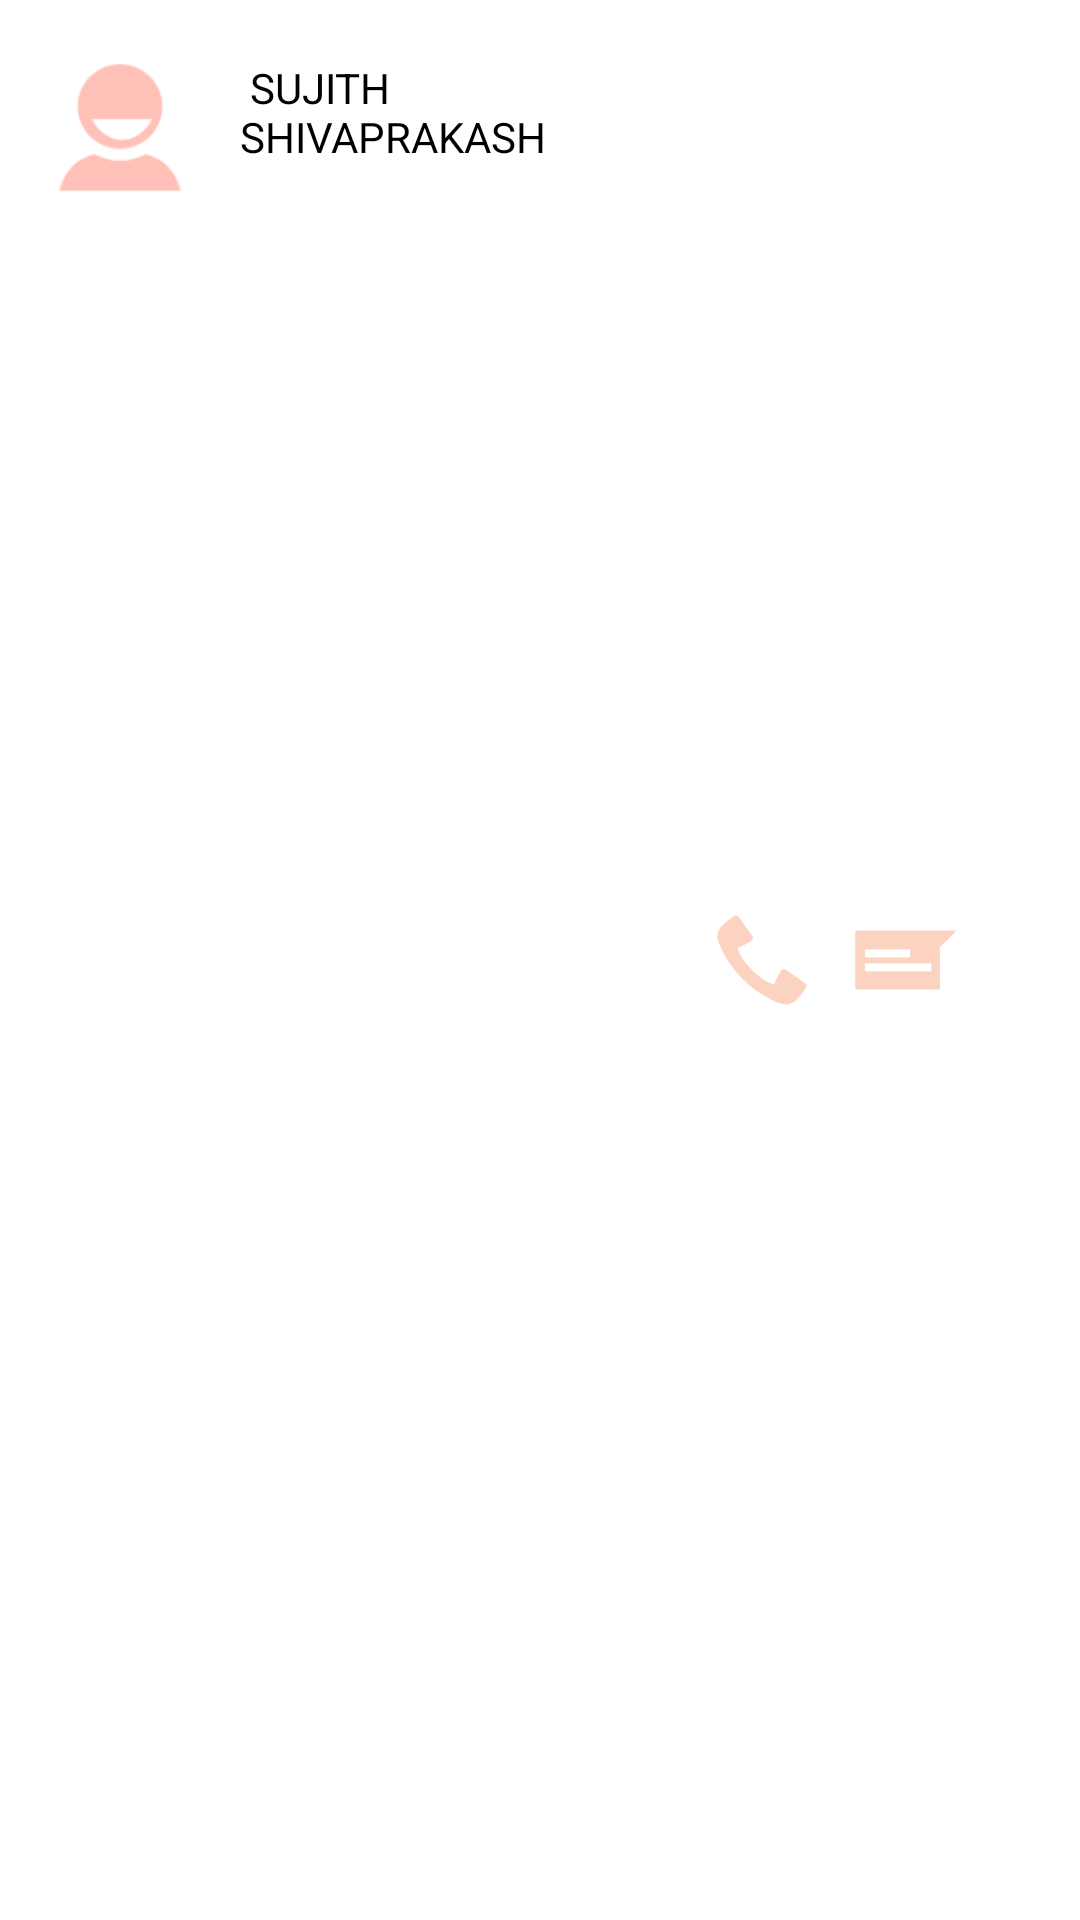

Named icons in this screenshot (1080x1920) and their centers, point (x, y):
contact: point (120, 127)
message: point (905, 960)
phone: point (762, 960)
